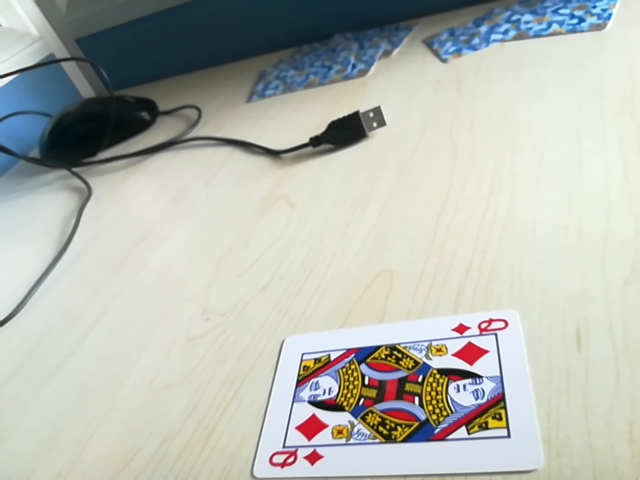fk q: (450, 314, 513, 341), (265, 446, 326, 473)
